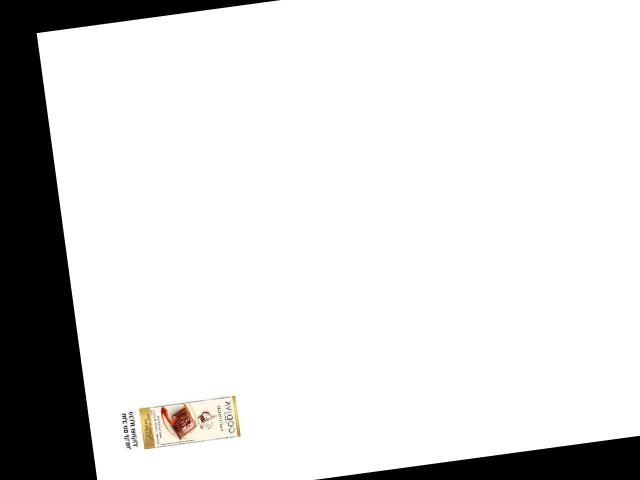chocolate: (135, 392, 242, 449)
